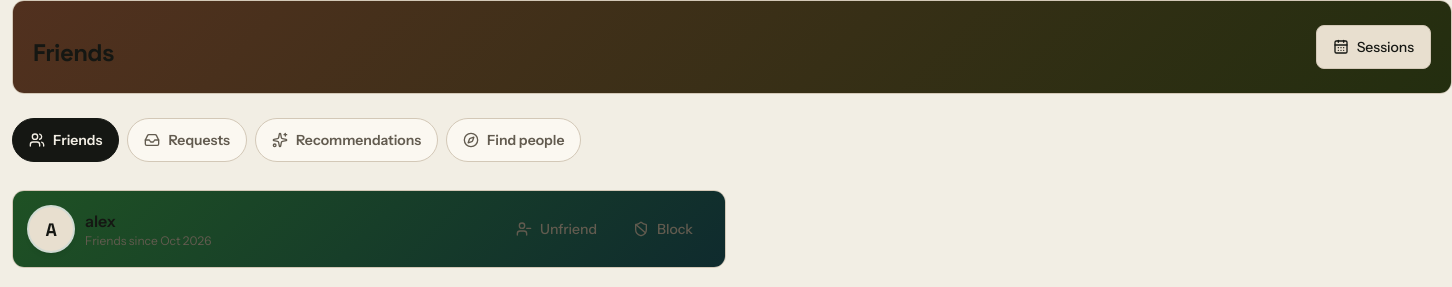
Friends page — friends tab › unfriends only after confirming, removing the row at once
Click the button with aria-label "Unfriend alex" at [556, 229], box [500,207,613,251]
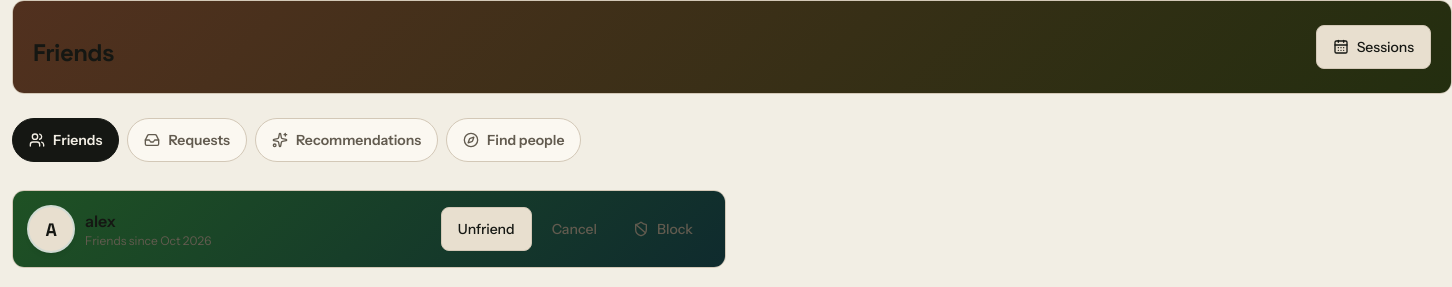
Click the button "Unfriend" at [486, 229], box [441,207,532,251]
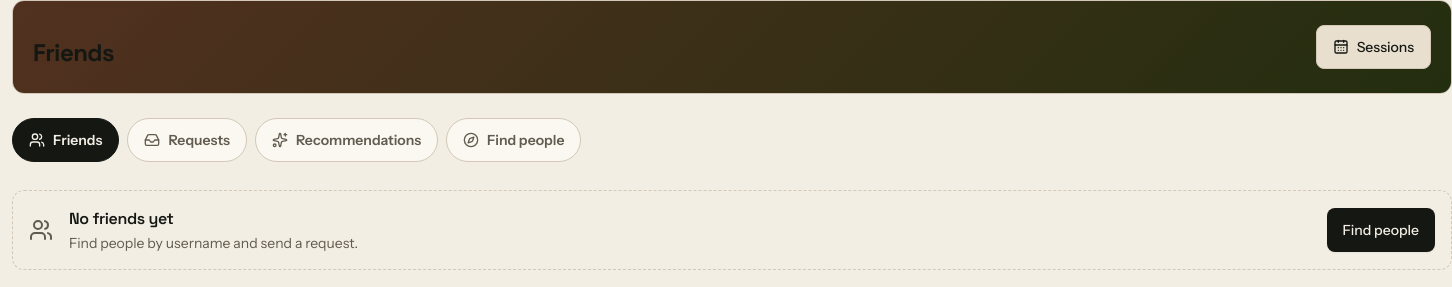
Result: the heading "No friends yet" is shown at [69,208,173,229]
